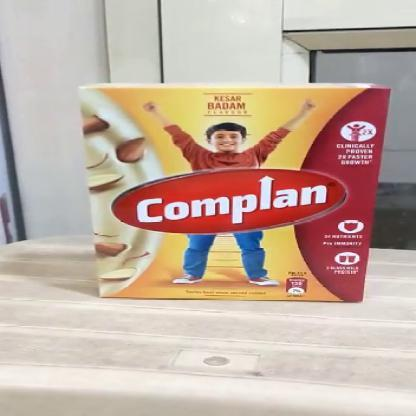Complan Kesar Badam: (64, 76, 400, 306)
